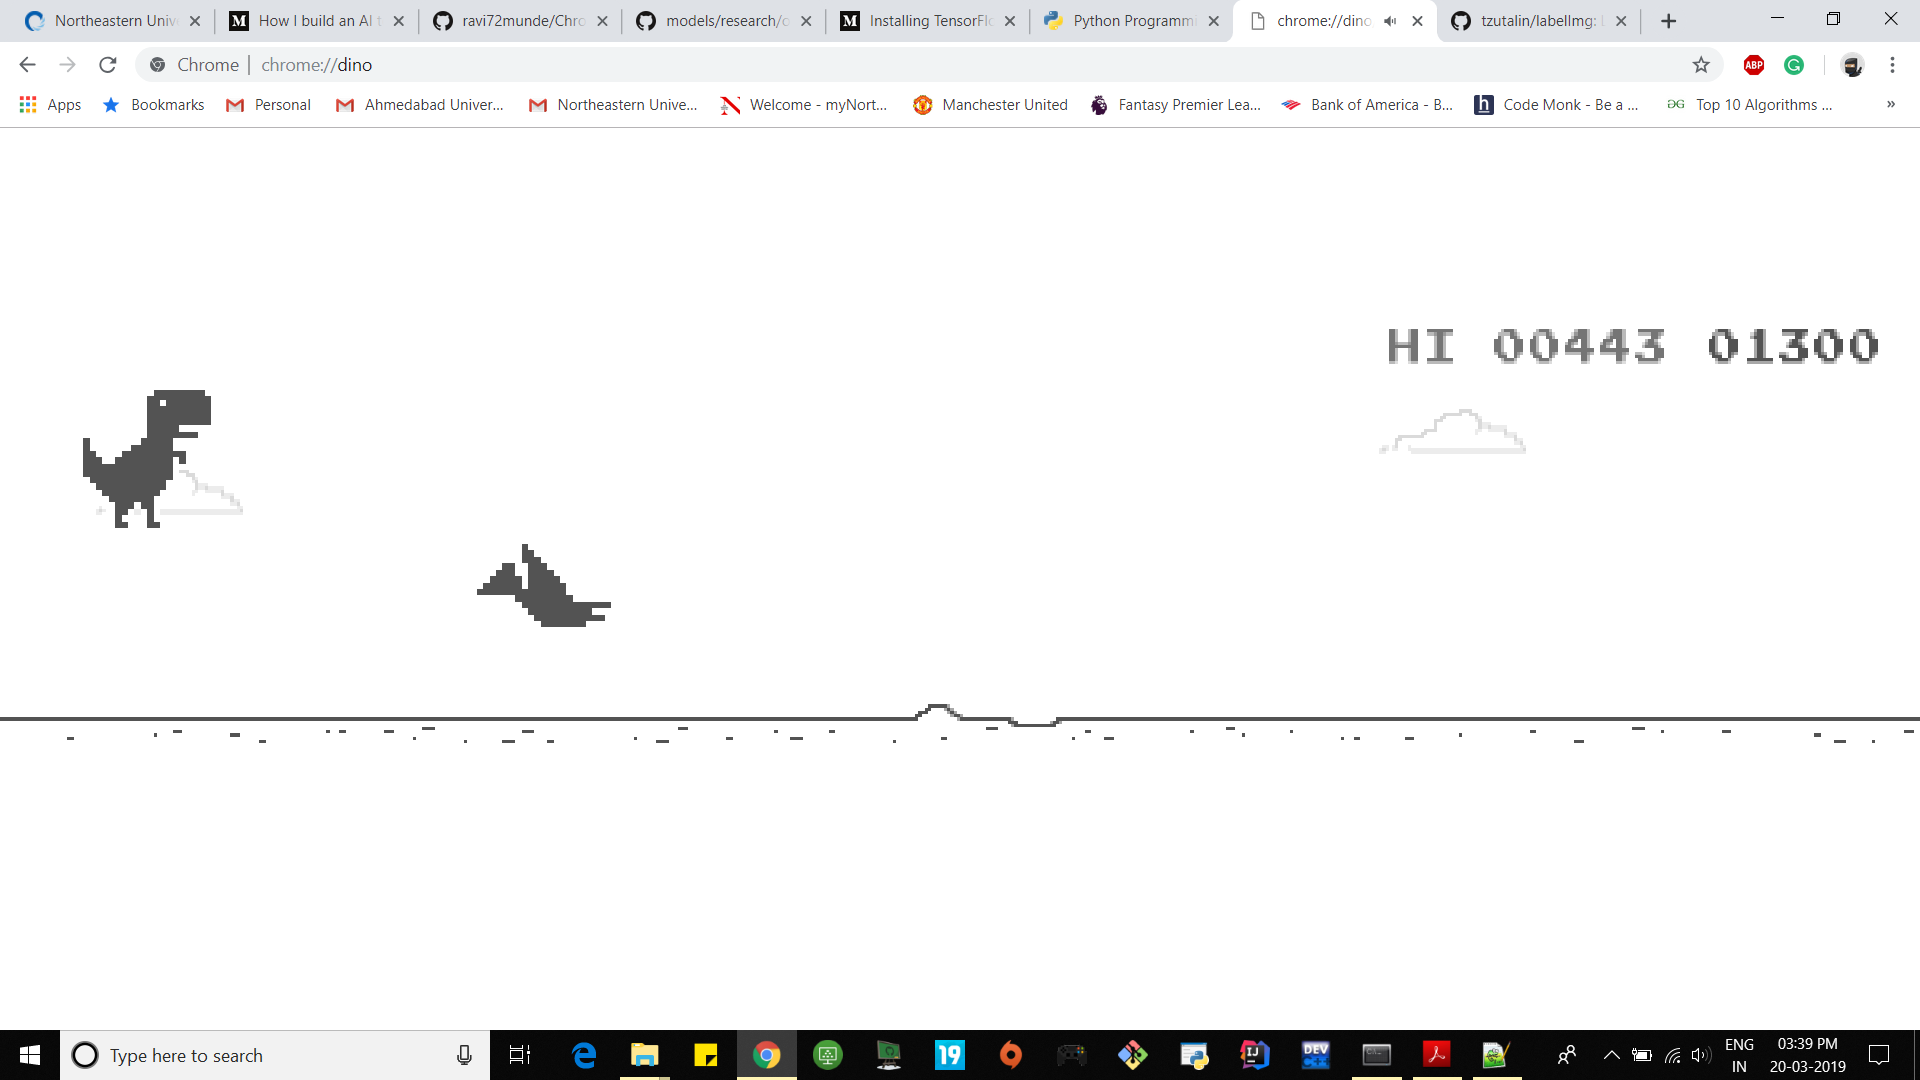bird: (479, 545, 613, 626)
dino: (79, 390, 210, 530)
